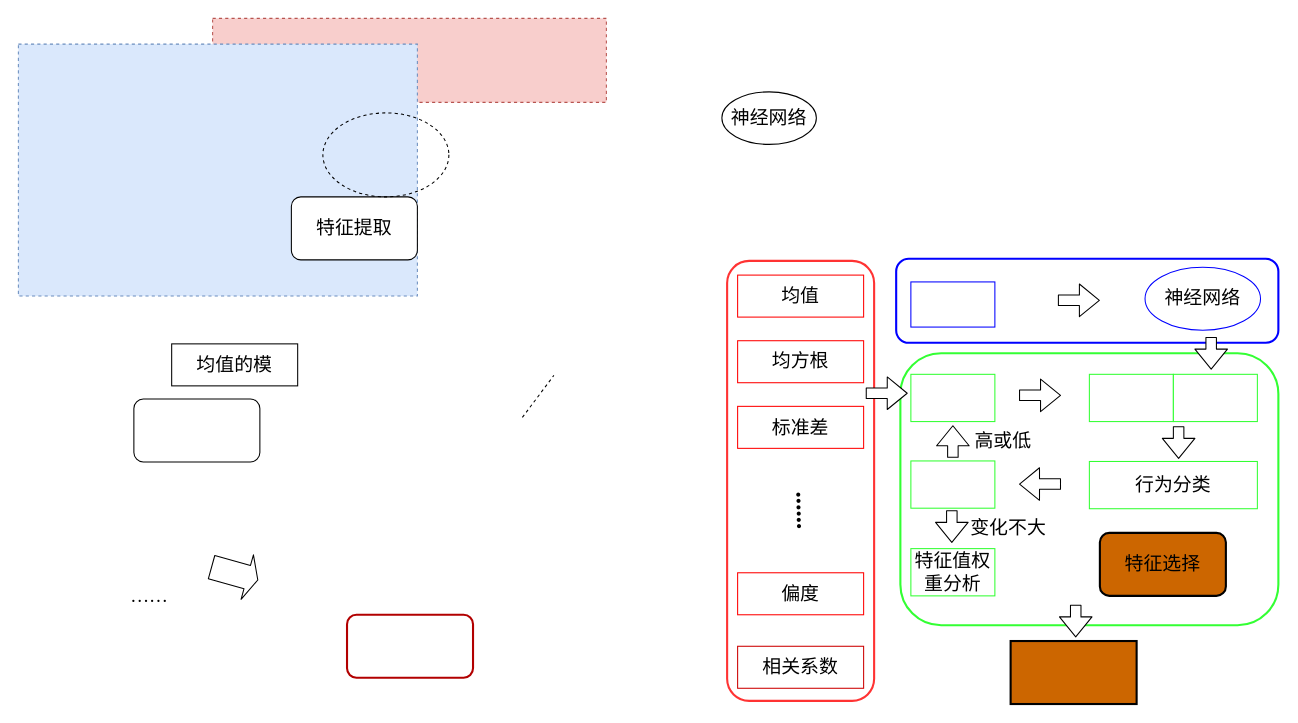
The diagram is 1298 pixels wide and 723 high, and some of its shapes have lost their labels. The shapes that lost their labels are listed below. From the top down, each one's box as (x1, y1, x2, y2) in pixels, then its label:
(910, 281, 995, 327): 时间序列行为数据
(910, 373, 995, 422): 序列前向选择算法
(1088, 373, 1173, 422): 特征集合
(1172, 373, 1257, 422): 特征向量
(910, 460, 995, 508): 识别率
(1009, 639, 1137, 705): 优势特征集
